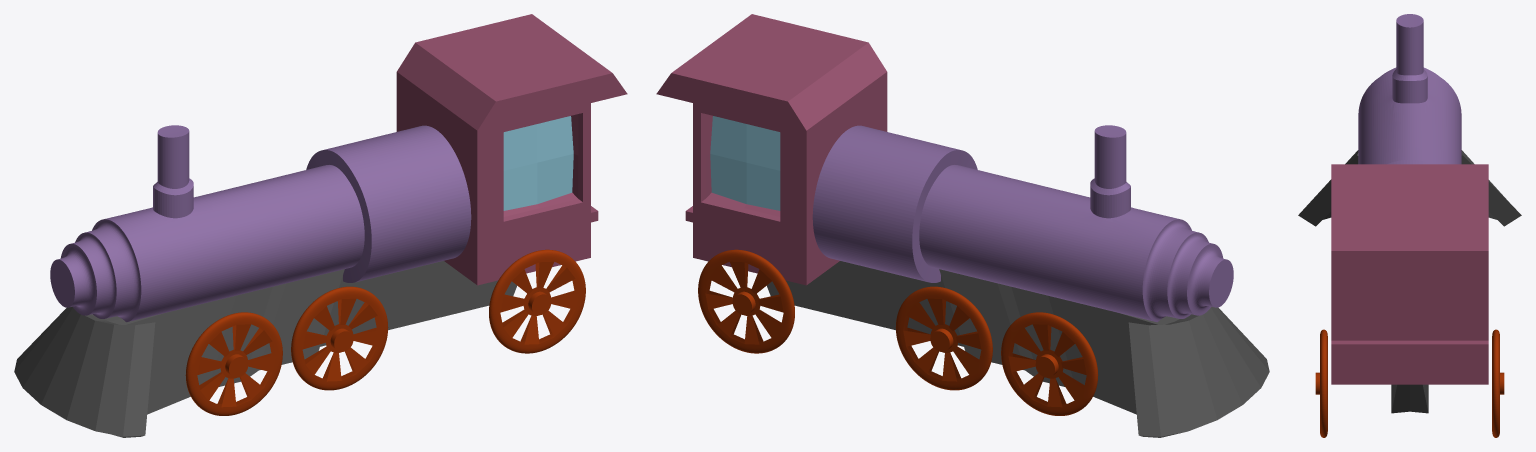
File: Engine train.fbx
3 renders of one model, left to right at view 1: azimuth 30°, elevation 25°; view 2: azimuth 150°, elevation 25°; view 3: azimuth 270°, elevation 25°, orthographic. The views are drawn at different scales.
Parts seen in each view (by area): view 1: Cylinder, Cube.010, Cylinder.001, Cylinder.002, Cylinder.004, Cylinder.003; view 2: Cylinder, Cube.010, Cylinder.001, Cylinder.005, Cylinder.007, Cylinder.006; view 3: Cube.010, Cylinder, Cylinder.001, Cylinder.002, Cylinder.005.
Boxes of the visible parts, x1,y1,x2,y2 form: Cylinder: [50, 125, 471, 322]; Cube.010: [396, 14, 627, 285]; Cylinder.001: [14, 261, 516, 437]; Cylinder.002: [489, 249, 585, 353]; Cylinder.004: [291, 286, 388, 390]; Cylinder.003: [185, 312, 282, 415]; Cylinder: [812, 125, 1233, 322]; Cube.010: [656, 14, 887, 285]; Cylinder.001: [767, 261, 1269, 437]; Cylinder.005: [698, 249, 794, 353]; Cylinder.007: [895, 286, 992, 390]; Cylinder.006: [1001, 312, 1098, 415]; Cube.010: [1331, 164, 1488, 384]; Cylinder: [1358, 14, 1461, 164]; Cylinder.001: [1298, 150, 1521, 413]; Cylinder.002: [1315, 329, 1327, 437]; Cylinder.005: [1492, 329, 1504, 437].
Bounding box in the file's own units: 2900 × 1351 × 1055.
